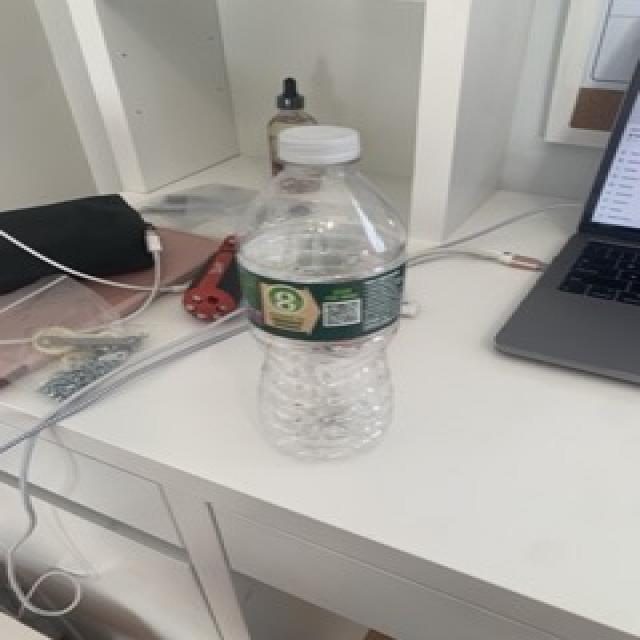water_bottle: (228, 122, 410, 460)
